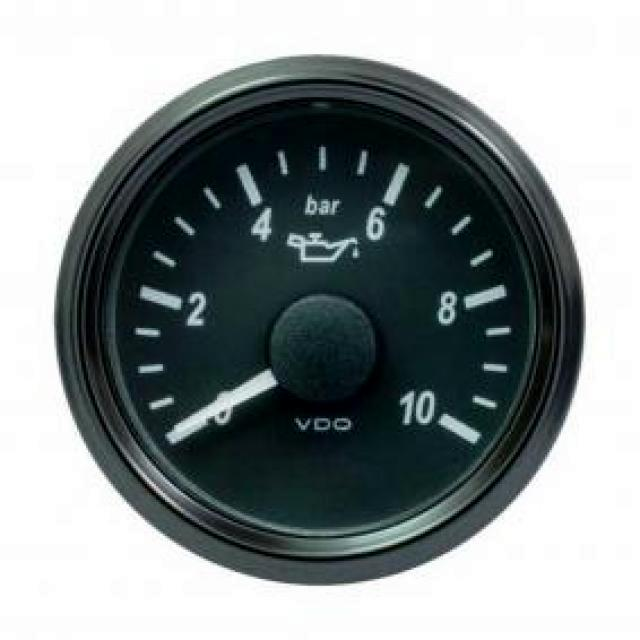Needle_Tip: (155, 415, 196, 461)
Needle_base: (263, 291, 381, 418)
max_value: (397, 383, 452, 435)
min_value: (198, 380, 250, 445)
